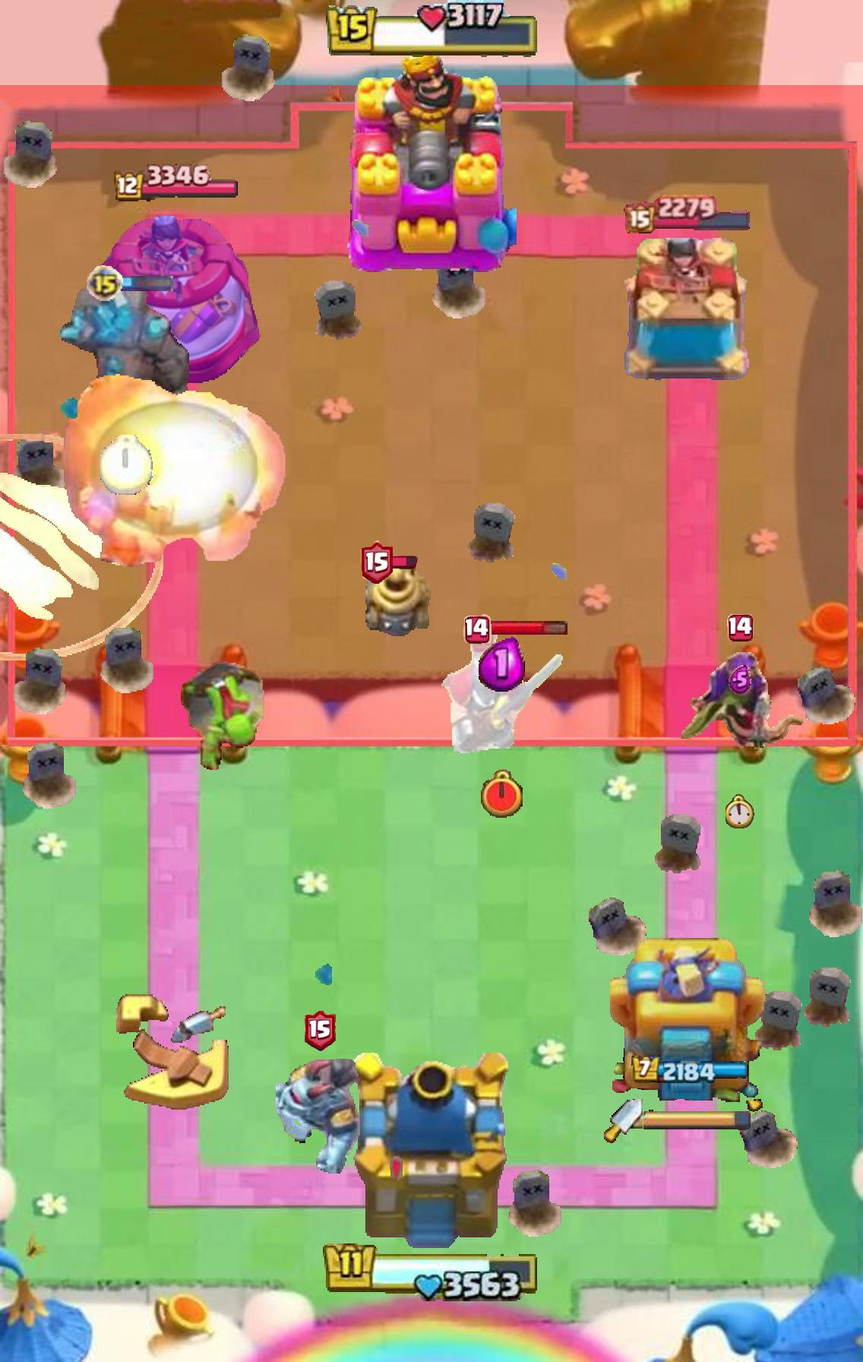elixir: (478, 637, 525, 692), (729, 665, 751, 694)
fireball: (48, 372, 294, 572)
